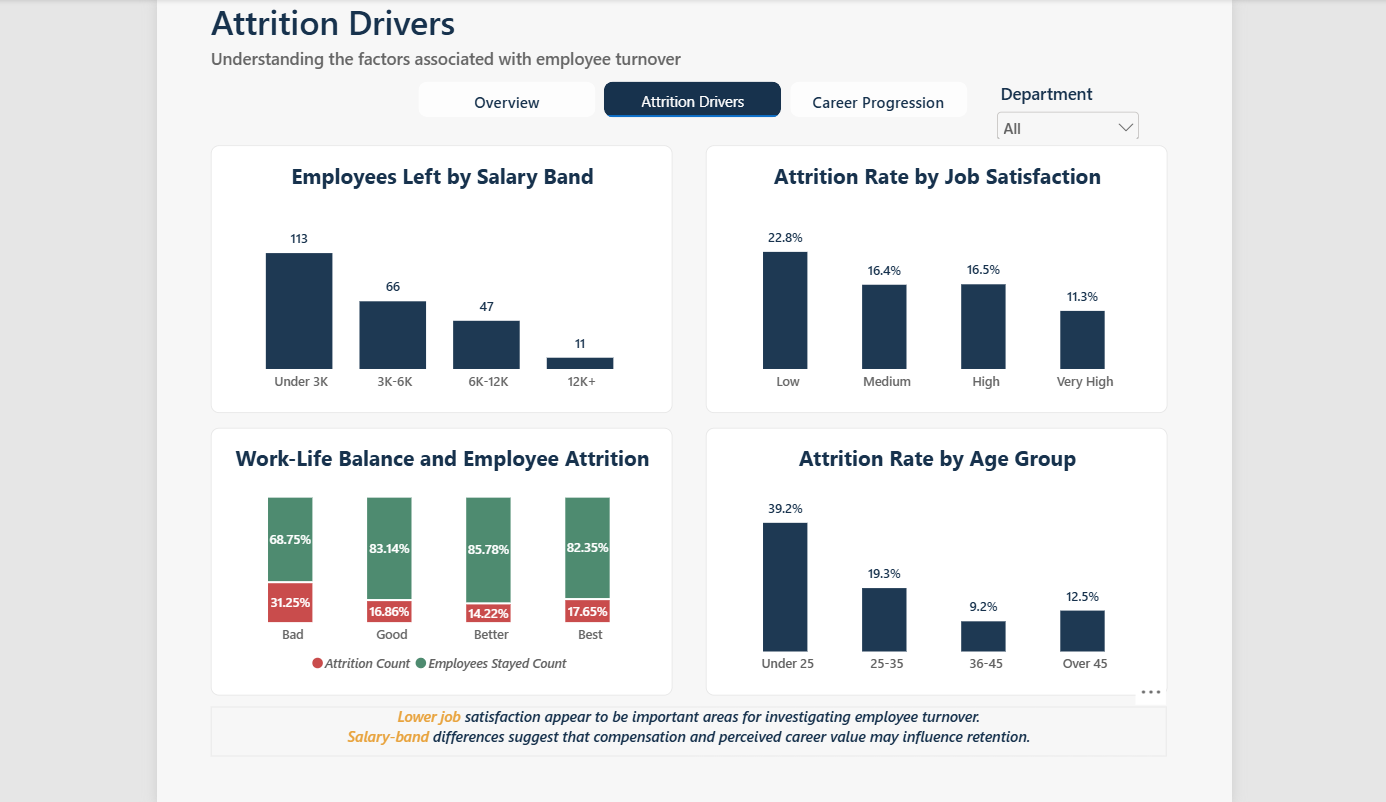

This screenshot's page, from the dashboard's own definition file:
{"tool":"powerbi","page":{"name":"Attrition Drivers","canvas":[1024,768],"ordinal":1},"visuals":[{"type":"textbox","box":[51.2,0,898.9,58.1],"z":0},{"type":"textbox","box":[51.2,45.3,463.4,32.4],"z":1000},{"type":"clusteredColumnChart","title":"Employees Left by Salary Band","fields":{"Category":["vw_employee_factors.salary_band"],"Y":["vw_employee_factors.Attrition Count"]},"box":[51.2,139.4,440,255],"z":2000},{"type":"clusteredColumnChart","title":"Attrition Rate by Job Satisfaction","fields":{"Category":["vw_employee_factors.satisfaction_label"],"Y":["vw_employee_factors.Attrition Rate Dynamic"]},"box":[522.9,139.4,440,255],"z":3000},{"type":"hundredPercentStackedColumnChart","title":"Work-Life Balance and Employee Attrition","fields":{"Category":["vw_employee_factors.wlb_label"],"Y":["vw_employee_factors.Attrition Count","vw_employee_factors.Employees Stayed Count"]},"box":[51.2,408.5,440,255],"z":4000},{"type":"clusteredColumnChart","title":"Attrition Rate by Age Group","fields":{"Category":["vw_employee_factors.age_group"],"Y":["vw_employee_factors.Attrition Rate Dynamic"]},"box":[522.9,408.5,440,255],"z":5000},{"type":"slicer","fields":{"Values":["vw_employee_factors.Department"]},"box":[795.6,78.6,145.3,54.8],"z":6000},{"type":"pageNavigator","box":[248.9,78.6,525.3,34.5],"z":7000},{"type":"textbox","box":[51.2,674.1,911.2,47.6],"z":8000}]}

Visuals, with their boxes on the page's 1024x768 design canvas (x1, y1, x2, y2). These are canvas units, not pixel positions in the 1386x802 screenshot, which may show the page scaled, cropped or inside an application window:
textbox: [left=51, top=0, right=950, bottom=58]
textbox: [left=51, top=45, right=515, bottom=78]
"Employees Left by Salary Band" clusteredColumnChart: [left=51, top=139, right=491, bottom=394]
"Attrition Rate by Job Satisfaction" clusteredColumnChart: [left=523, top=139, right=963, bottom=394]
"Work-Life Balance and Employee Attrition" hundredPercentStackedColumnChart: [left=51, top=408, right=491, bottom=664]
"Attrition Rate by Age Group" clusteredColumnChart: [left=523, top=408, right=963, bottom=664]
slicer - vw_employee_factors.Department: [left=796, top=79, right=941, bottom=133]
pageNavigator: [left=249, top=79, right=774, bottom=113]
textbox: [left=51, top=674, right=962, bottom=722]
